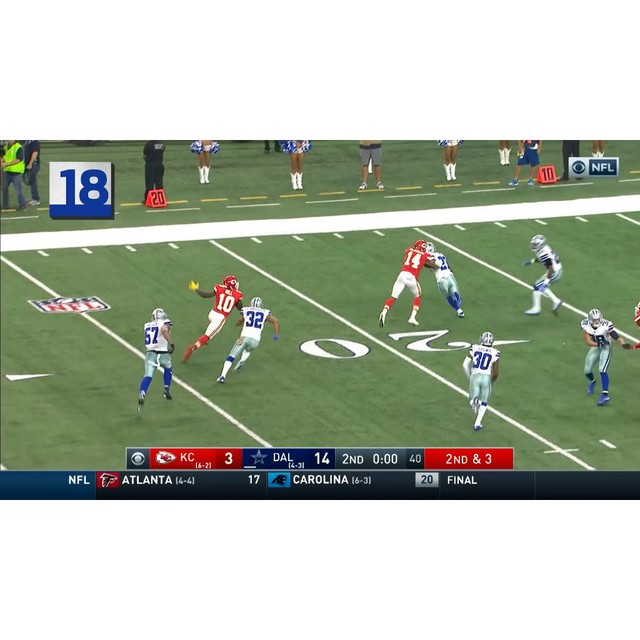american-football-player: (182, 277, 244, 365), (577, 308, 633, 405), (218, 296, 278, 383), (378, 240, 430, 329), (460, 331, 502, 432), (136, 307, 177, 410), (521, 234, 565, 315), (424, 244, 466, 318)
